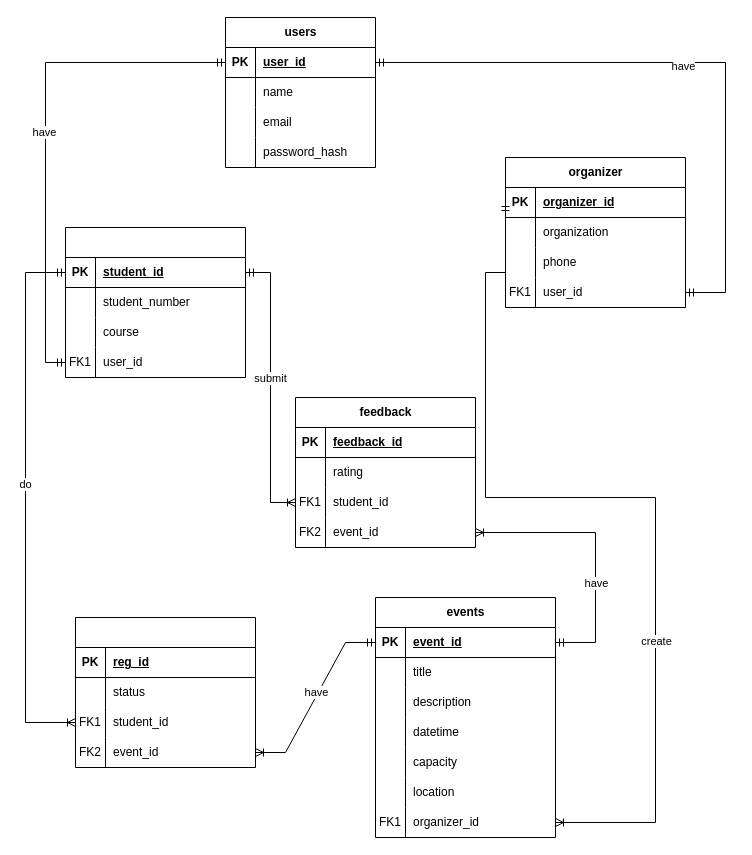
Image size: 752x855. Some labels were removed from this diagram. The shapes that lost their labels are listed below. From the top down, each one's box as (x1, y1, x2, y2) in pixels, then its label:
(64, 226, 246, 378): students
(74, 616, 256, 768): registrations
